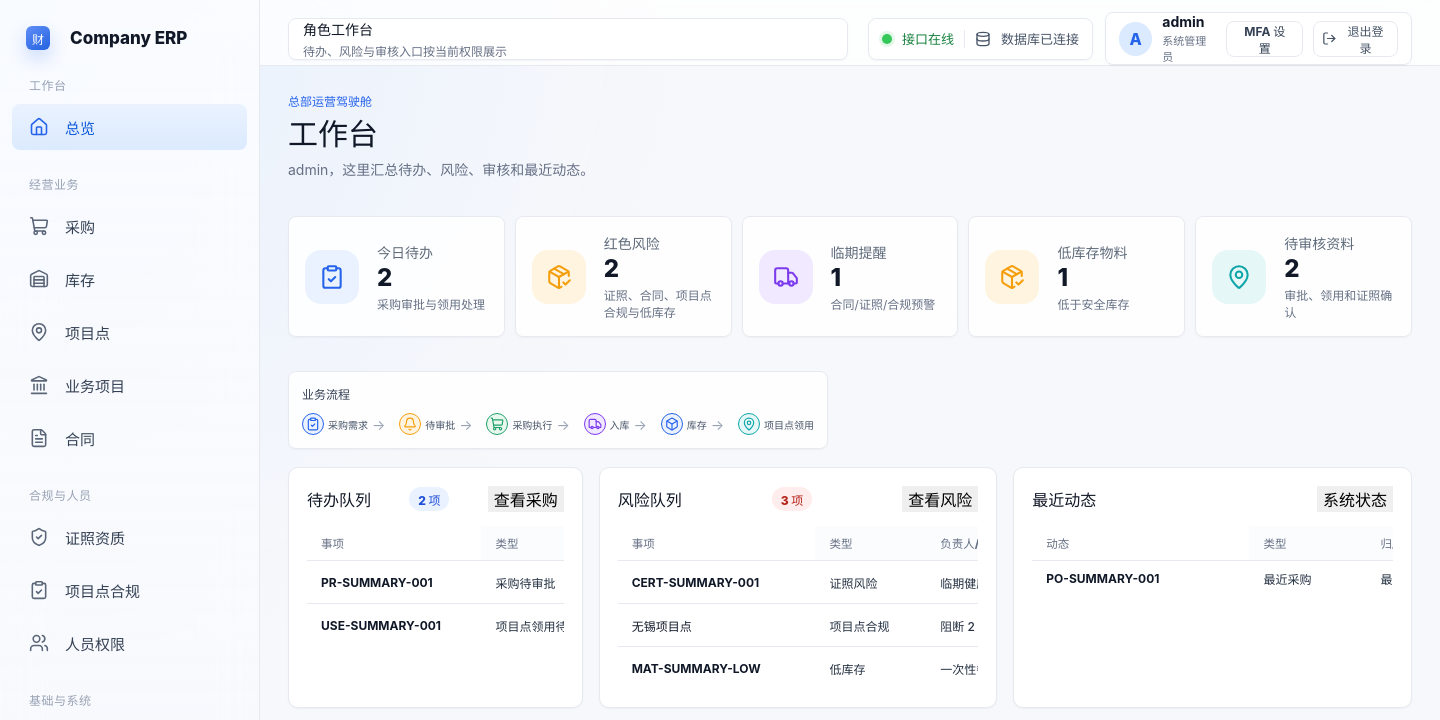
Test: Company ERP app shell › routes dashboard summary rows into the requested workspace tab
Click the text "USE-SUMMARY-001": (394, 625) [307,604,482,646]
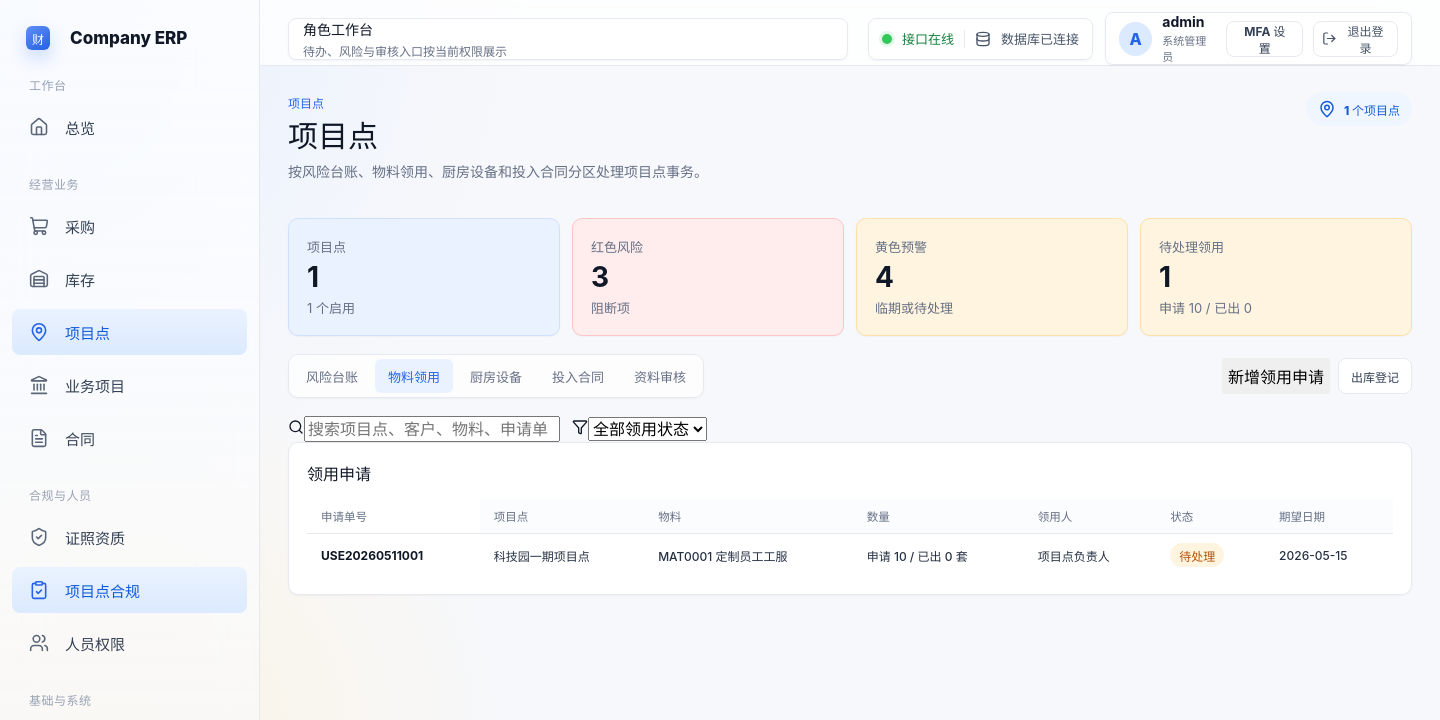
Expected: the tab "物料领用" is shown, [375,360,453,394]
Expected: the button "新增领用申请" is shown, [1222,358,1330,394]
